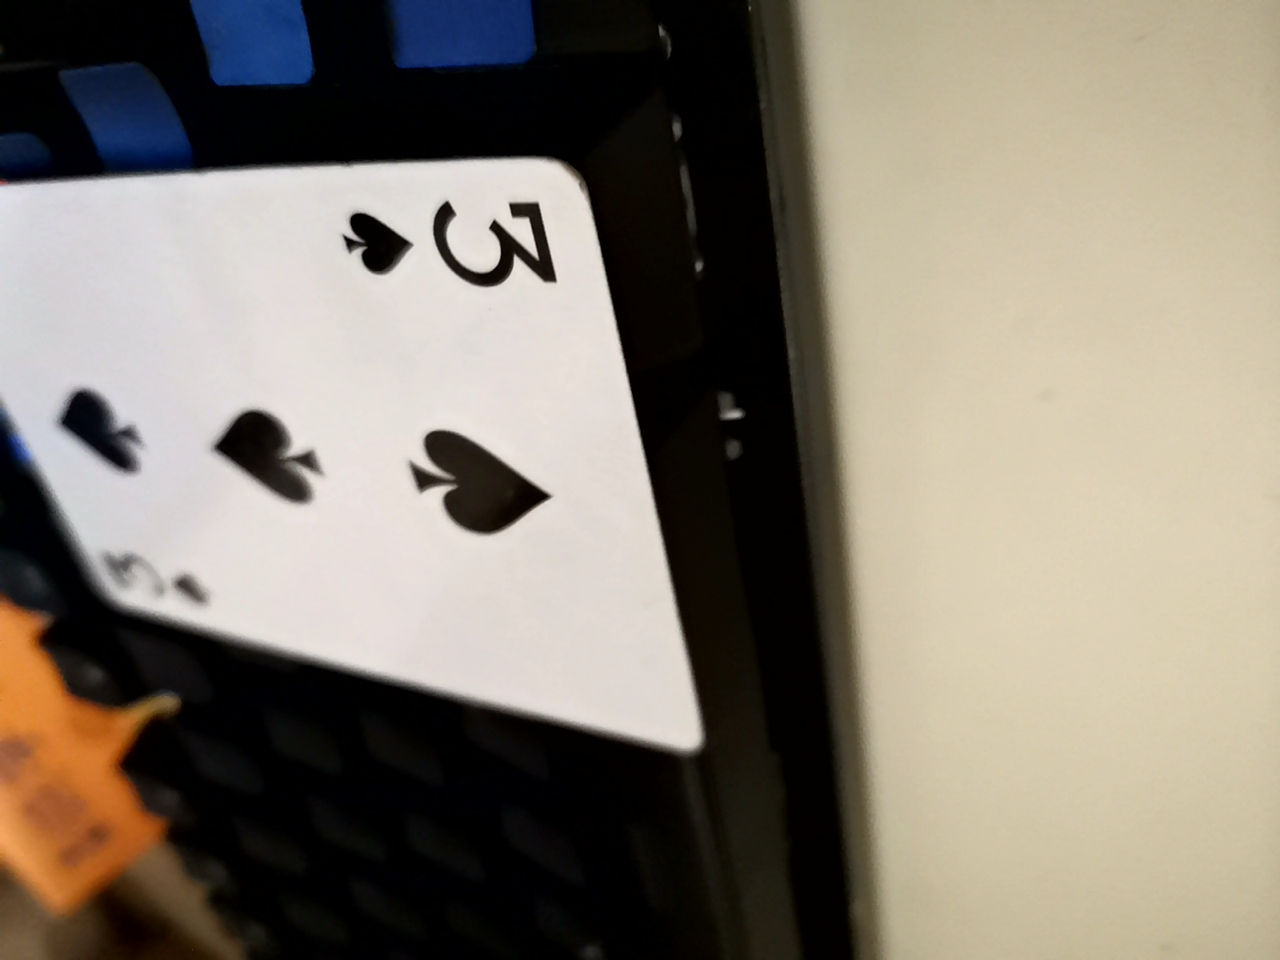ht 3: (0, 182, 751, 783)
